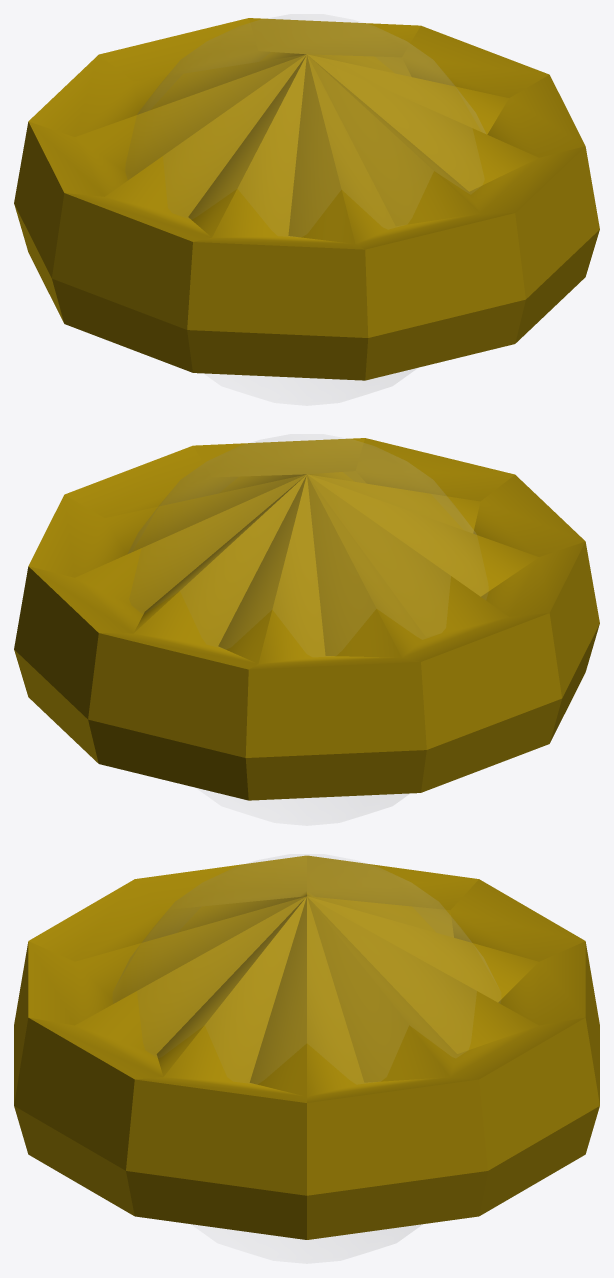
Rendered from lamp1.fbx.
3 views of the same model, one above another, from view 1: azimuth 30°, elevation 25°; view 2: azimuth 150°, elevation 25°; view 3: azimuth 270°, elevation 25° (orthographic). The views are drawn at different scales.
Parts seen in each view (by area): view 1: pSphere3; view 2: pSphere3; view 3: pSphere3.
Boxes of the visible parts, x1,y1,x2,y2 form: pSphere3: [14, 14, 599, 405]; pSphere3: [14, 434, 599, 825]; pSphere3: [14, 854, 599, 1263].
Bounding box in the file's own units: 3 × 2 × 2.85.
